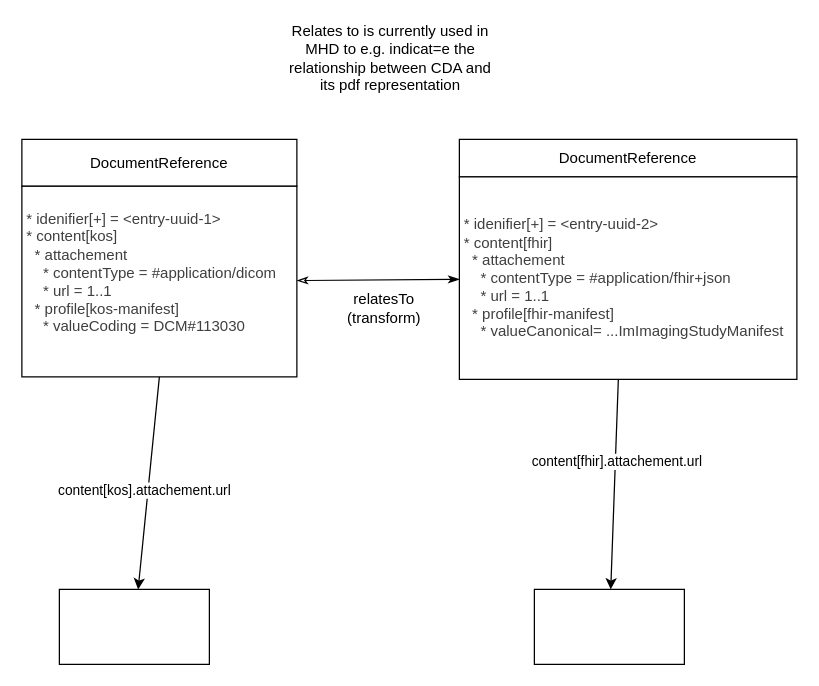
The diagram is 819 pixels wide and 686 high, and some of its shapes have lost their labels. The box of each missing label's shape, as (x1, y1, x2, y2) in pixels:
FHIR Manifest: (533, 588, 684, 664)
KOS Manifest: (58, 588, 209, 664)
